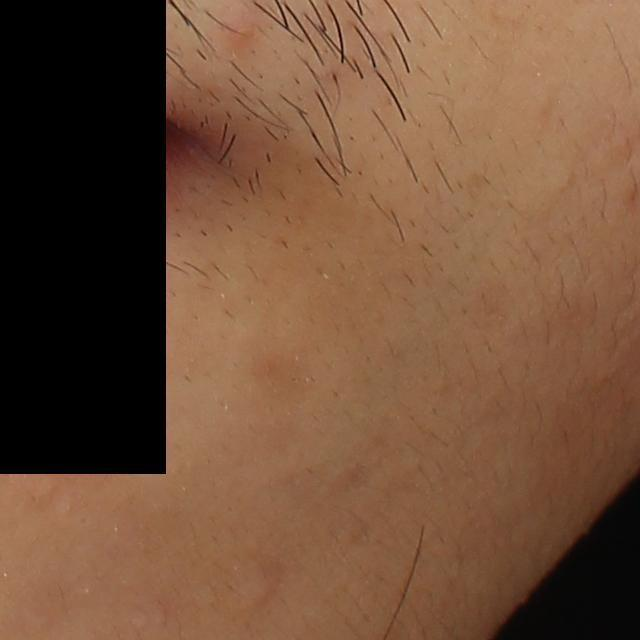papule: (230, 10, 262, 50)
